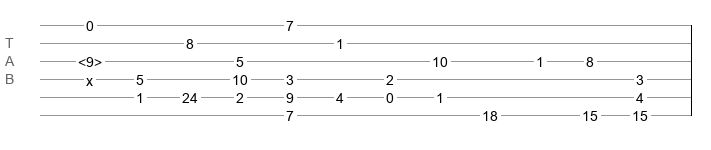0: (86, 18, 94, 28), (386, 90, 394, 100)
1: (136, 90, 144, 100), (336, 36, 344, 46), (436, 90, 444, 100), (536, 54, 544, 64)
10: (232, 72, 248, 82), (432, 54, 448, 64)
15: (582, 108, 598, 118), (632, 108, 648, 118)
18: (482, 108, 498, 118)
2: (236, 90, 244, 100), (386, 72, 394, 82)
24: (182, 90, 198, 100)
3: (286, 72, 294, 82), (636, 72, 644, 82)
4: (336, 90, 344, 100), (636, 90, 644, 100)
5: (136, 72, 144, 82), (236, 54, 244, 64)
7: (286, 108, 294, 118), (286, 18, 294, 28)
8: (186, 36, 194, 46), (586, 54, 594, 64)
9: (286, 90, 294, 100)
harmonic: (78, 54, 102, 64)
x: (86, 73, 93, 81)
